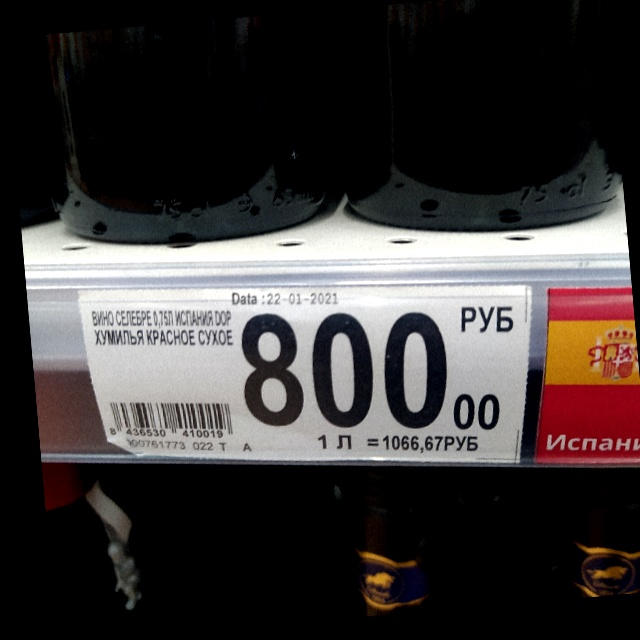barcode: (101, 399, 235, 439)
name: (90, 304, 235, 349)
price: (239, 307, 507, 435)
price_tag: (73, 288, 529, 465)
